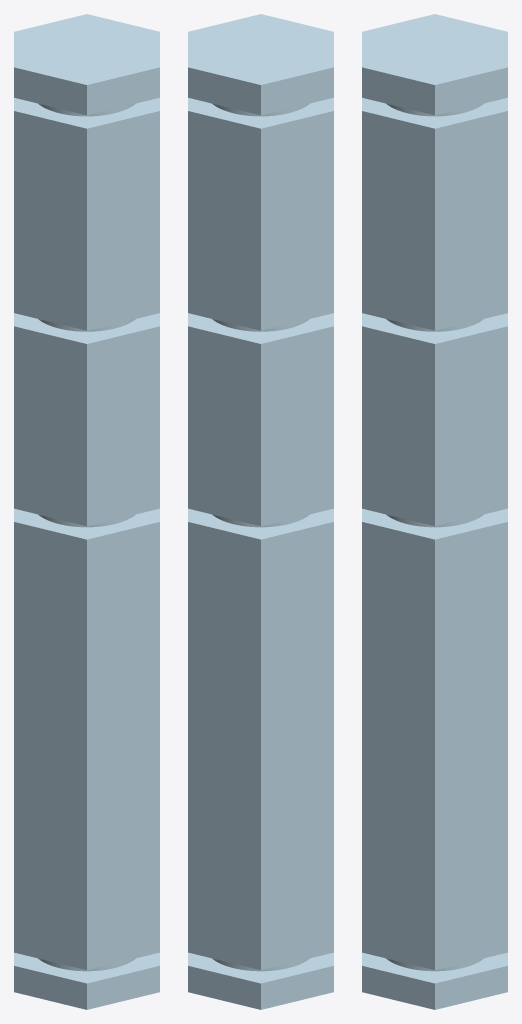
File: sprocket-shaft.gltf
3 views of the same model, side by side, from view 1: azimuth 30°, elevation 25°; view 2: azimuth 150°, elevation 25°; view 3: azimuth 270°, elevation 25° (orthographic).
Parts seen in each view (by area): view 1: Motor Shaft; view 2: Motor Shaft; view 3: Motor Shaft.
Boxes of the visible parts, x1,y1,x2,y2 form: Motor Shaft: (14, 14, 159, 1009); Motor Shaft: (188, 14, 333, 1009); Motor Shaft: (362, 14, 507, 1009).
Size of the model in its own units: 0.0147 by 0.0889 by 0.0127.
